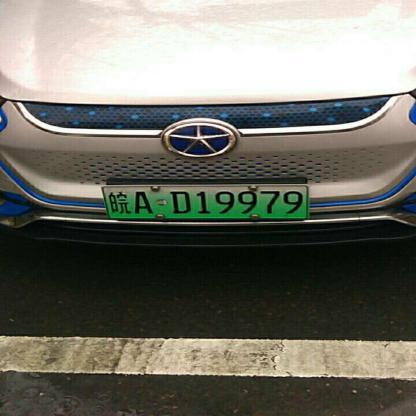lp: (100, 183, 308, 218)
